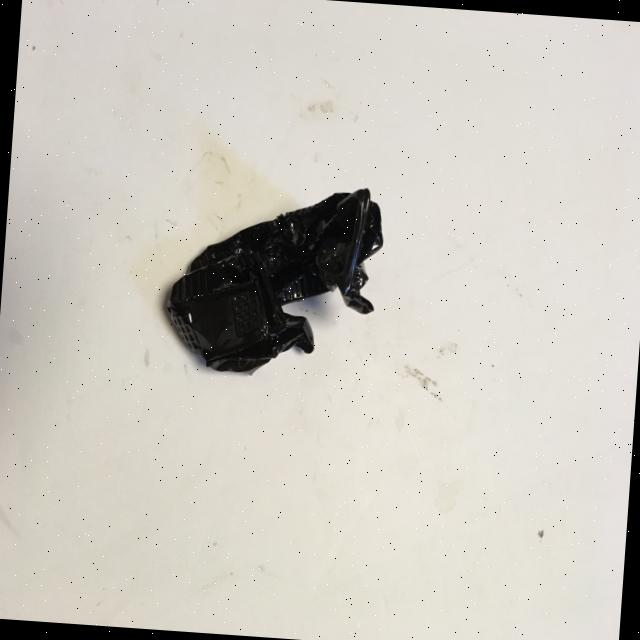plastic: (162, 172, 386, 384)
